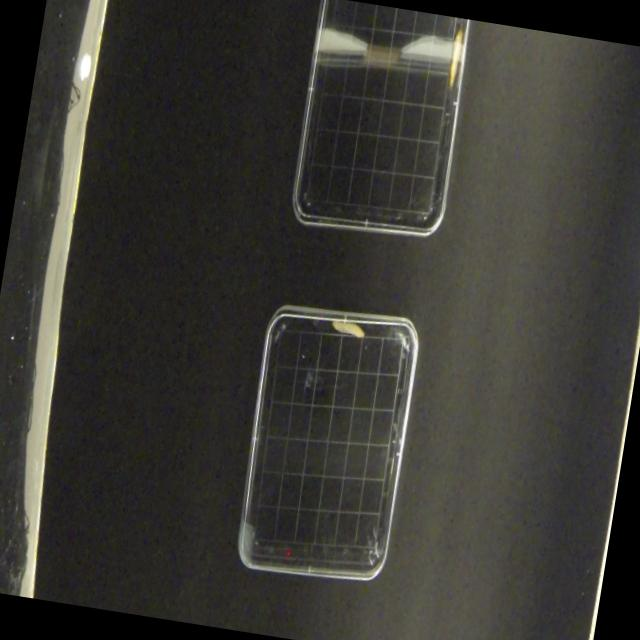larva: (438, 25, 465, 86), (328, 320, 367, 344)
